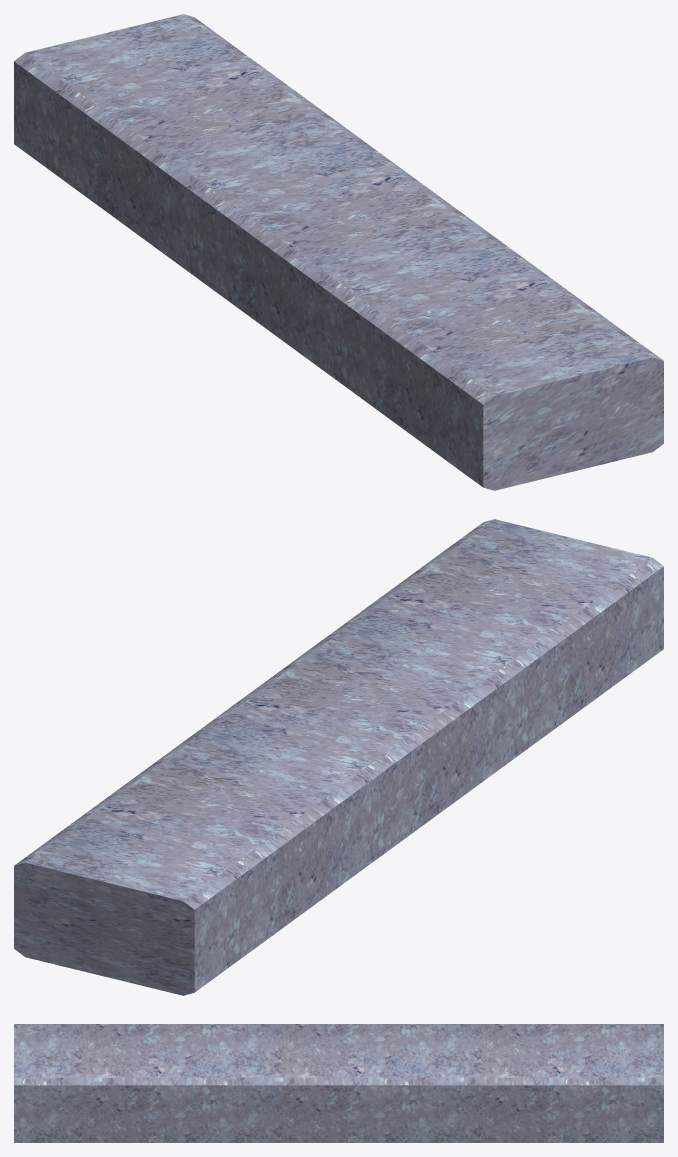
File: Moon_Pillar_Flat_0.fbx
The picture shows the model from 3 angles, top to bottom: view 1: azimuth 30°, elevation 25°; view 2: azimuth 150°, elevation 25°; view 3: azimuth 270°, elevation 25°; orthographic projection. The views are drawn at different scales.
Visible parts, largest first — view 1: Moon_Pillar_Flat_0; view 2: Moon_Pillar_Flat_0; view 3: Moon_Pillar_Flat_0.
Boxes of the visible parts, left/top/right/bottom form: Moon_Pillar_Flat_0: left=14, top=14, right=663, bottom=490; Moon_Pillar_Flat_0: left=14, top=519, right=663, bottom=995; Moon_Pillar_Flat_0: left=14, top=1024, right=663, bottom=1142.
Bounding box in the file's own units: 200 × 100 × 900.
